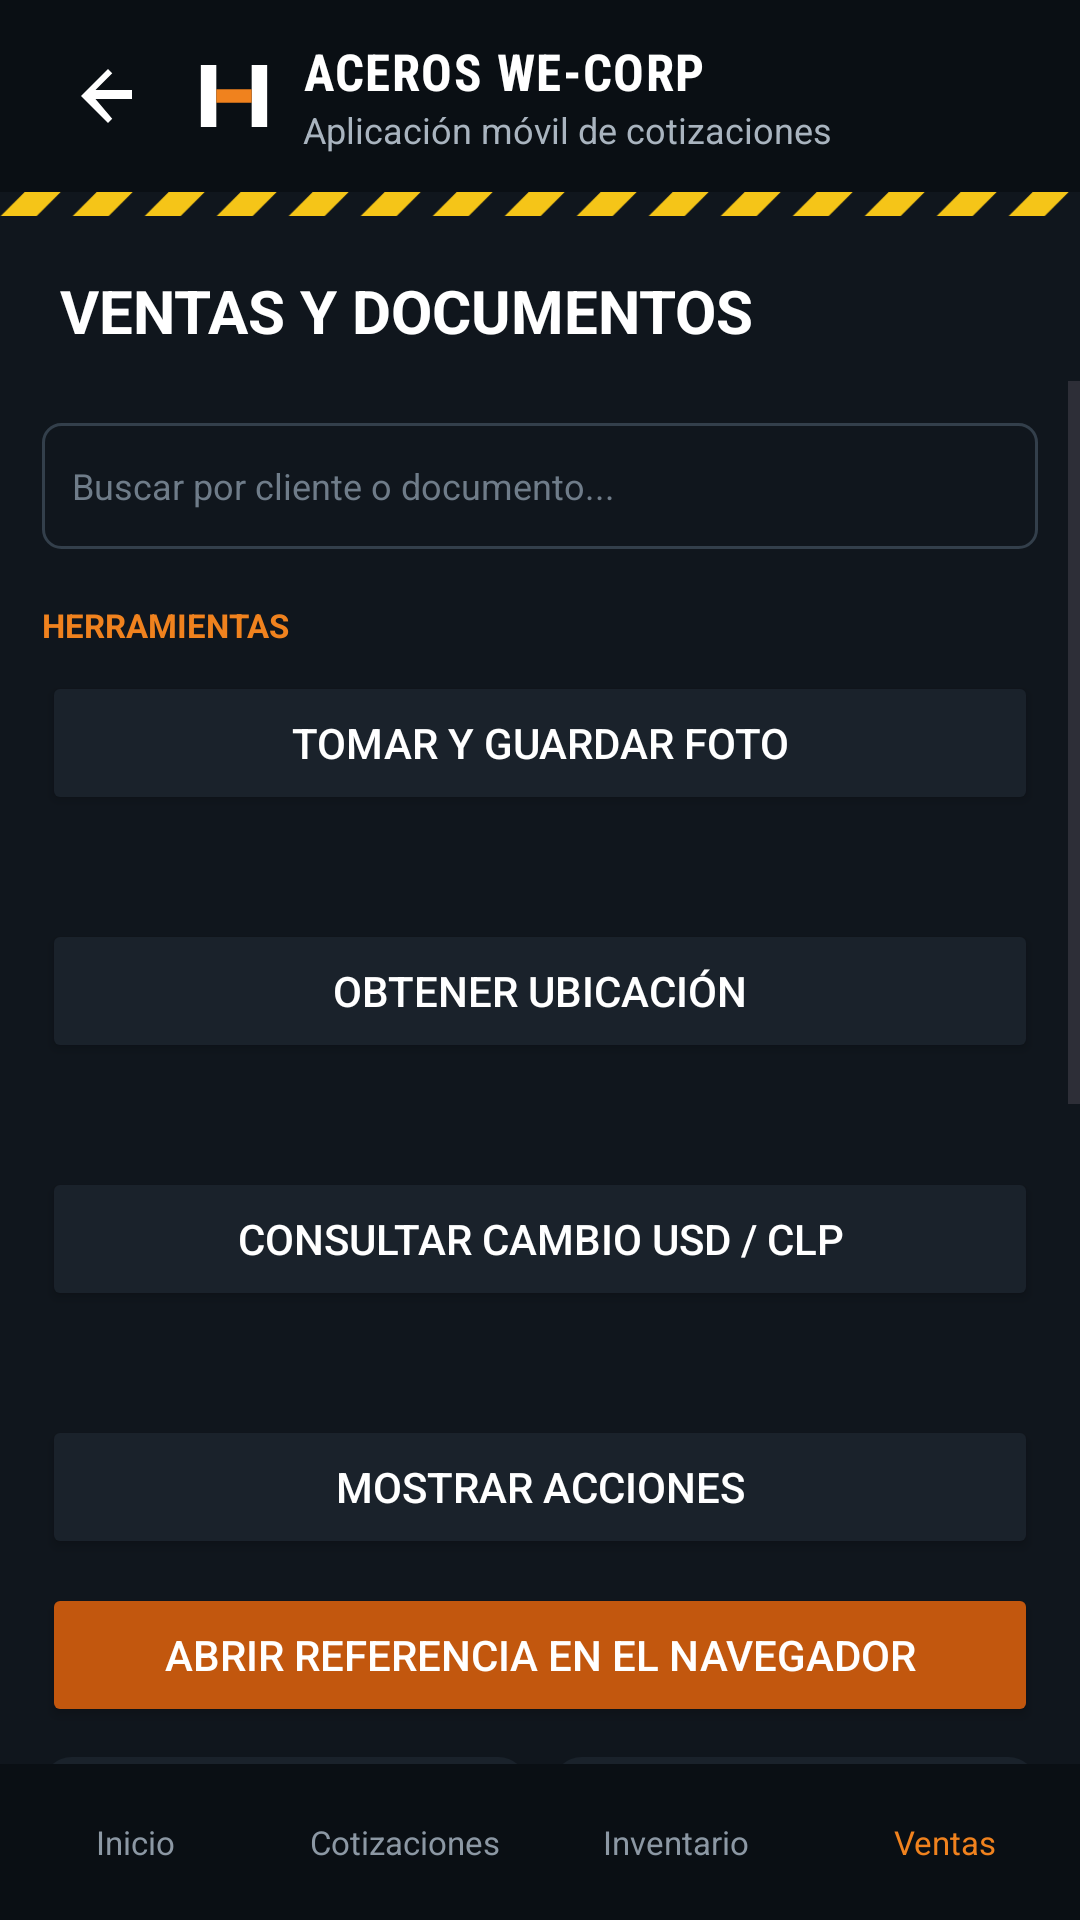

Icon click points for this 1080px x 1920px phone screenshot, format (x=x, y=y):
Volver: (x=106, y=96)
